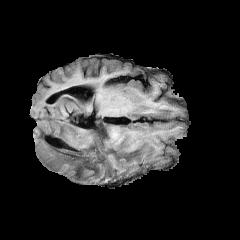glioma: (35, 120, 146, 181)
